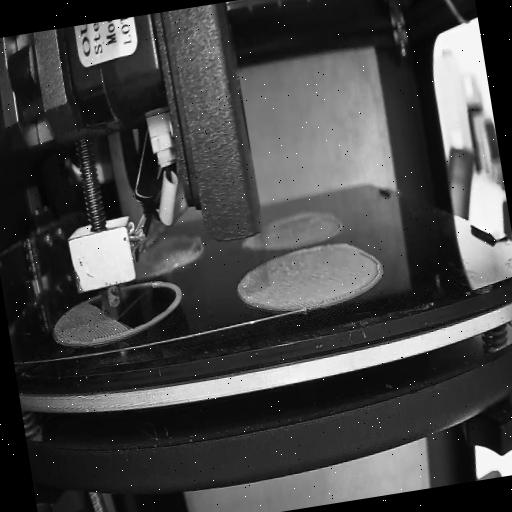over_extrusion: (357, 242, 387, 292)
